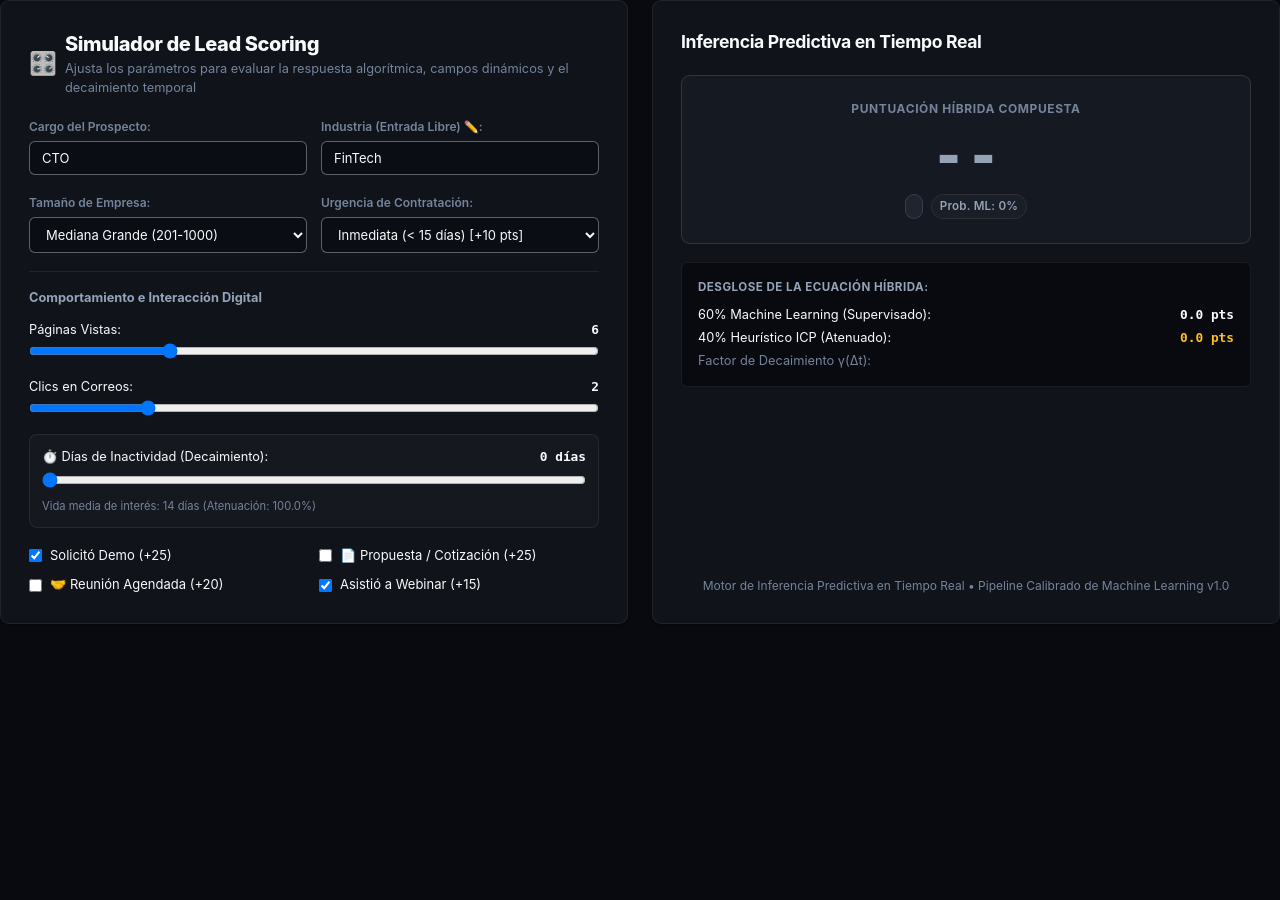
Test case: los controles › a los 14 días la atenuación es exactamente la mitad
Set the slider labelled "⏱️ Días de Inactividad (Decaimiento):" to "14" at [214, 480], box top-left (42, 472), bottom-right (586, 488)
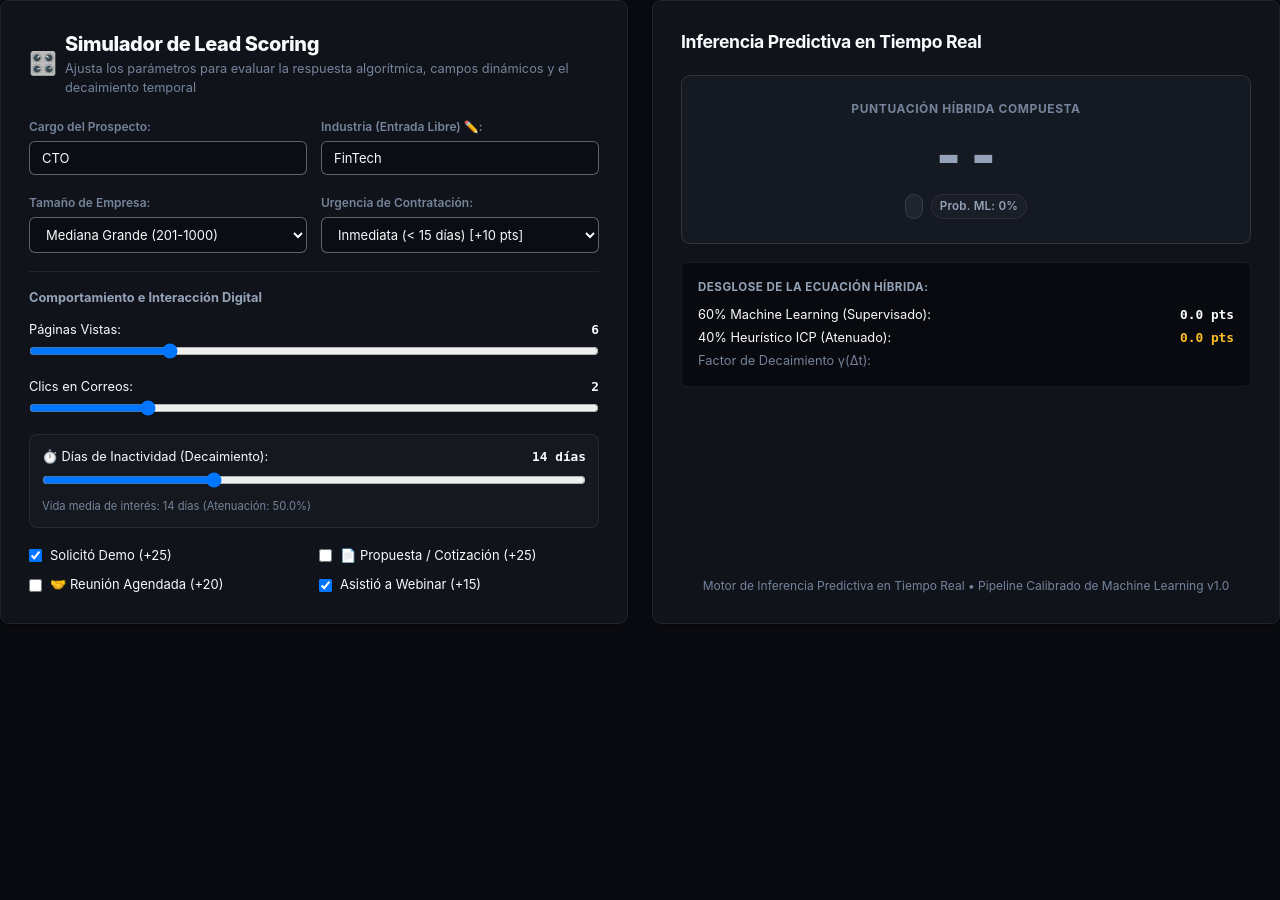
Expected: the text "Vida media de interés: 14 días (Atenuación: 50.0%)" is shown, top-left (42, 499), bottom-right (311, 513)
